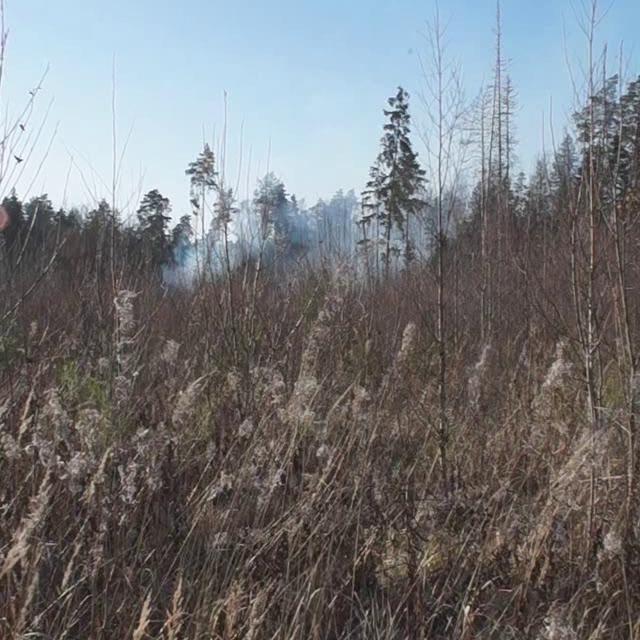Smoke: (144, 175, 480, 302)
